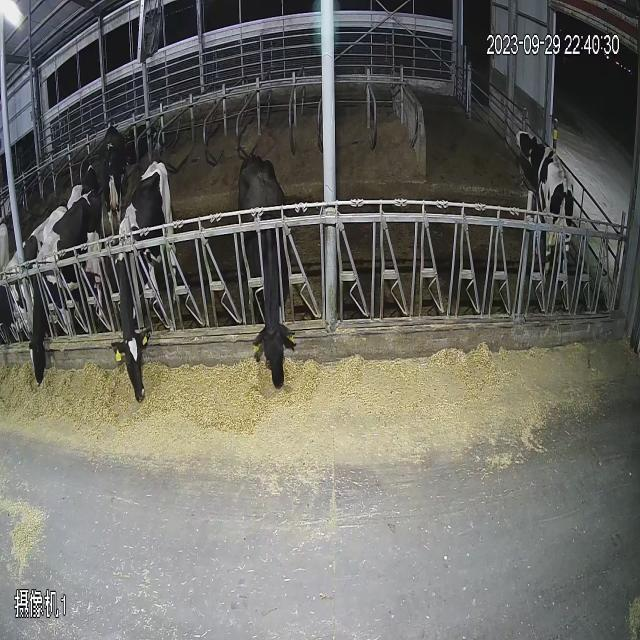feeding: (122, 148, 198, 464), (232, 143, 312, 396), (26, 190, 110, 389)
